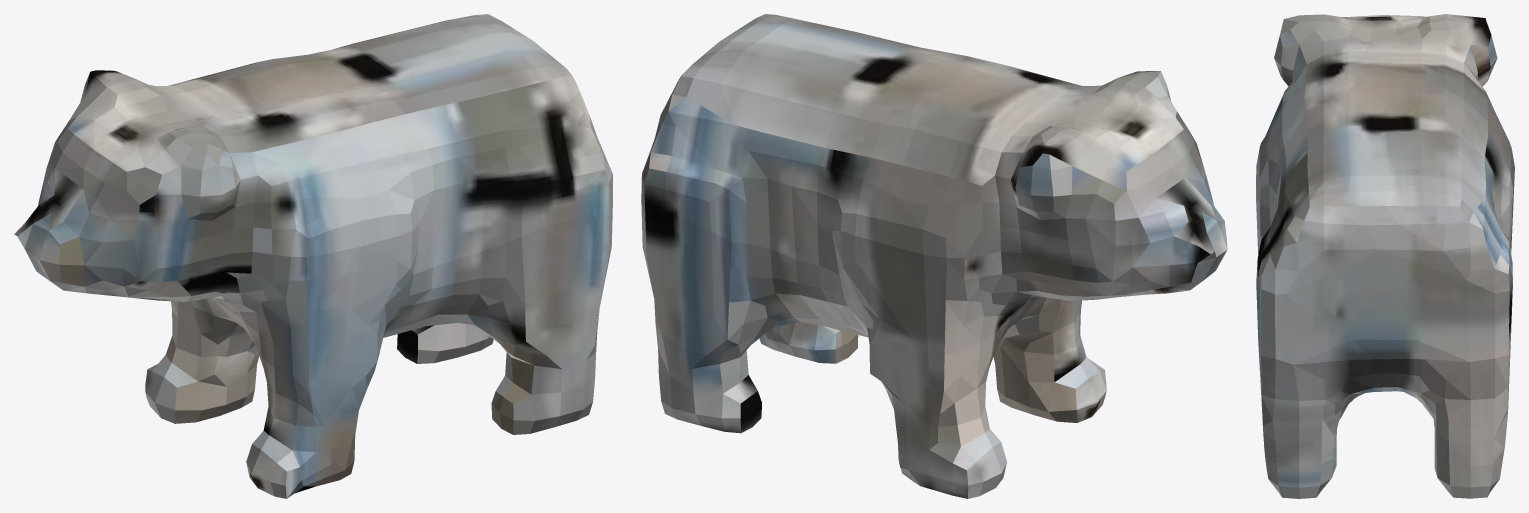
File: snowBear.glb
3 renders of one model, left to right at view 1: azimuth 30°, elevation 25°; view 2: azimuth 150°, elevation 25°; view 3: azimuth 270°, elevation 25°, orthographic. The views are drawn at different scales.
Parts seen in each view (by area): view 1: material.001; view 2: material.001; view 3: material.001.
Part boxes in pixels (x1,y1,x2,y2): material.001: (14,14,612,498); material.001: (641,14,1227,498); material.001: (1256,14,1514,498).
Size of the model in its own units: 0.9757 by 0.6456 by 0.47.
Materials: 1 (1 with a texture image).
